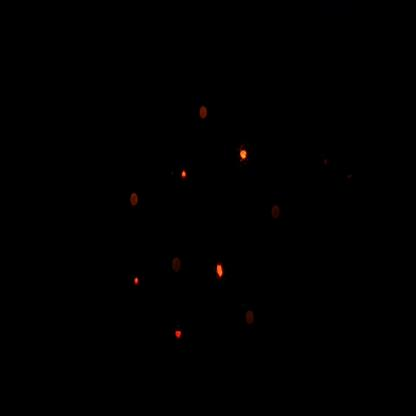PS: (160, 242, 192, 292), (120, 177, 150, 222), (240, 292, 261, 350), (266, 189, 288, 239), (192, 92, 218, 133)
PVC: (203, 243, 238, 297), (166, 307, 191, 358), (231, 135, 258, 178), (128, 260, 150, 300), (176, 159, 195, 192)
